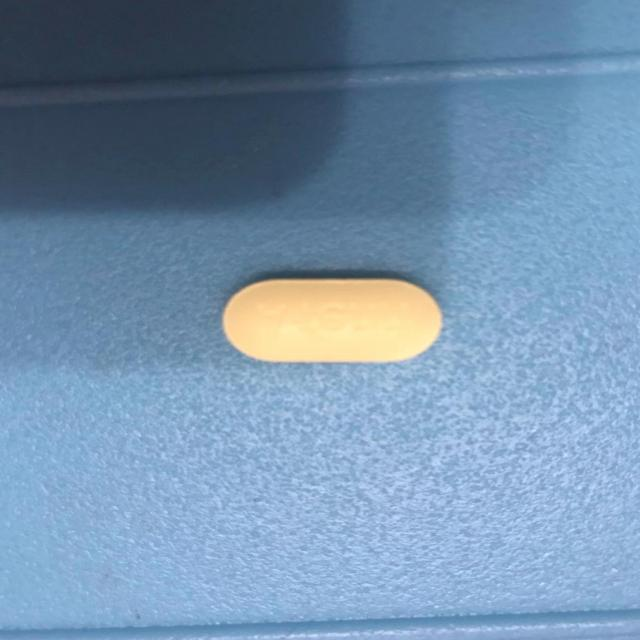pill: (226, 278, 439, 364)
